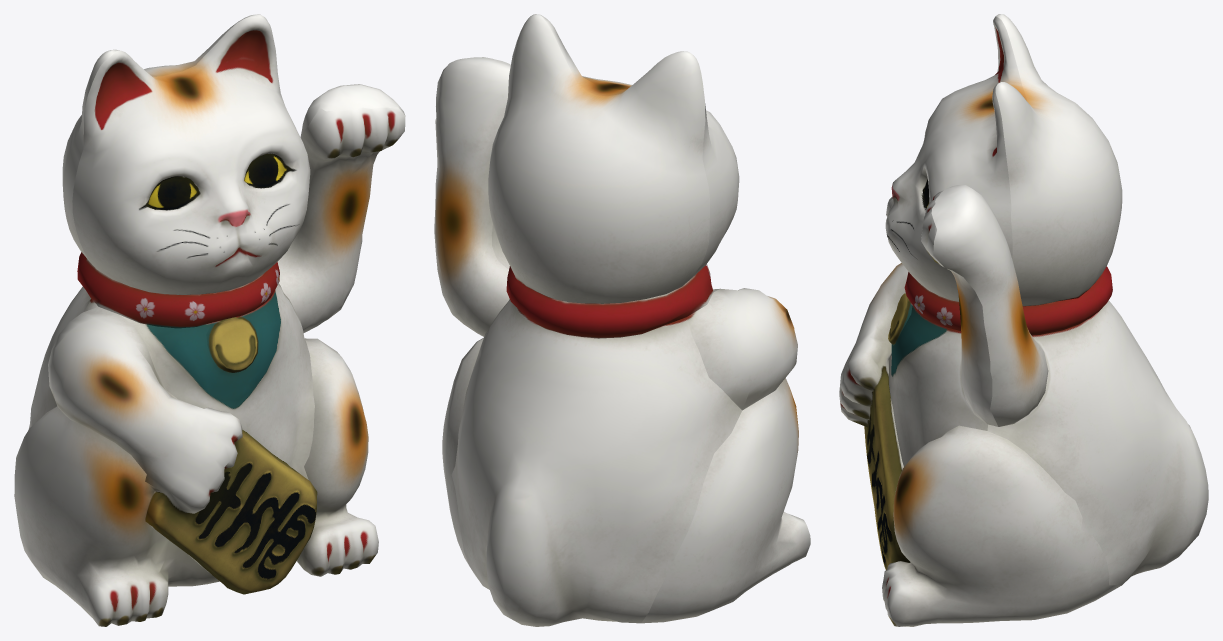
The model's file is manekiNeko.gltf.
3 views of the same model, side by side, from view 1: azimuth 30°, elevation 25°; view 2: azimuth 150°, elevation 25°; view 3: azimuth 270°, elevation 25° (orthographic). The views are drawn at different scales.
Visible parts, largest first — view 1: catFigure; view 2: catFigure; view 3: catFigure.
Boxes of the visible parts, x1,y1,x2,y2 form: catFigure: (14,14,405,626); catFigure: (434,14,810,626); catFigure: (839,14,1208,626).
Bounding box in the file's own units: 21.19 × 31.17 × 20.03.
1 material, 1 textured.
